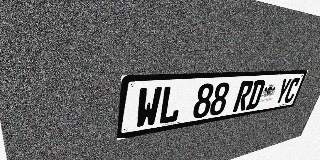8: (191, 83, 216, 119), (208, 82, 232, 116)
C: (283, 77, 301, 104)
D: (245, 80, 266, 110)
L: (157, 85, 184, 125)
R: (232, 80, 254, 112)
W: (134, 86, 163, 129)
Y: (273, 78, 292, 105)
